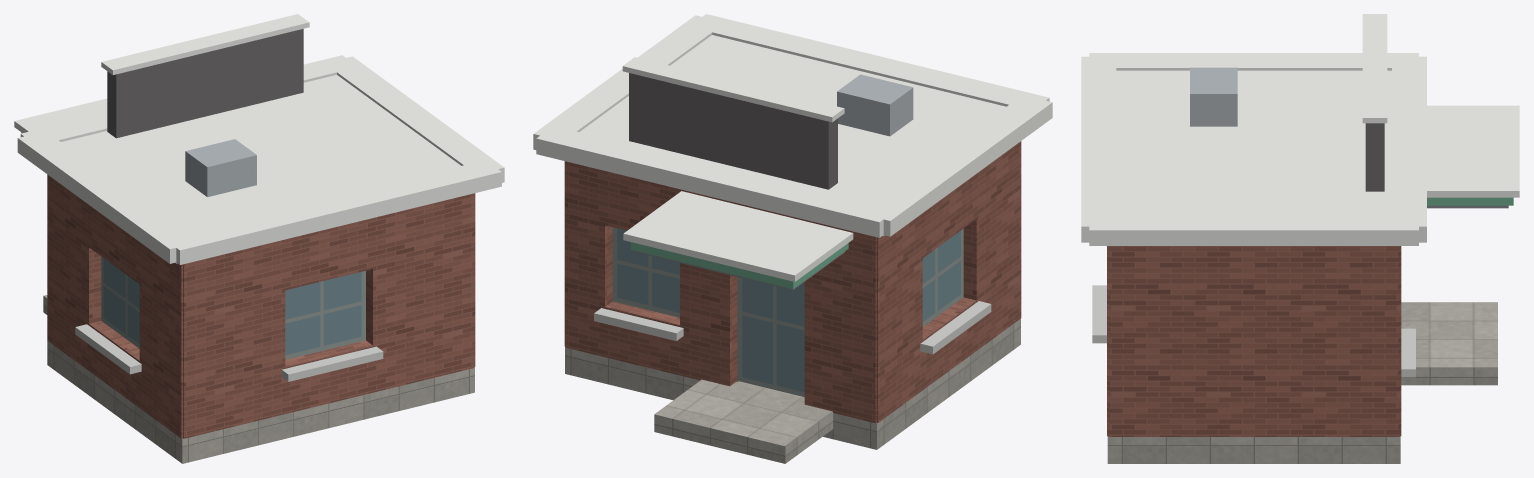
3 renders of one model, left to right at view 1: azimuth 30°, elevation 25°; view 2: azimuth 150°, elevation 25°; view 3: azimuth 270°, elevation 25°, orthographic. The views are drawn at different scales.
Parts seen in each view (by area): view 1: guard__guardbrick, guard__cap, guard__darkframe, guard__stone, guard__glass, guard__metalroof, guard__sill, guard__frame; view 2: guard__cap, guard__guardbrick, guard__darkframe, guard__glass, guard__threshold-front, guard__stone, guard__frame, guard__metalroof, guard__sill, guard__greencanopy; view 3: guard__cap, guard__guardbrick, guard__stone, guard__threshold-front, guard__metalroof, guard__sill, guard__darkframe, guard__greencanopy.
Boxes of the visible parts, x1,y1,x2,y2 form: guard__guardbrick: [47, 174, 475, 438]; guard__cap: [14, 14, 504, 264]; guard__darkframe: [107, 29, 303, 138]; guard__stone: [47, 341, 474, 463]; guard__glass: [103, 258, 361, 355]; guard__metalroof: [185, 139, 256, 196]; guard__sill: [75, 324, 383, 381]; guard__frame: [101, 256, 365, 359]; guard__cap: [533, 14, 1052, 281]; guard__guardbrick: [564, 141, 1021, 422]; guard__darkframe: [629, 73, 837, 189]; guard__glass: [617, 228, 960, 392]; guard__threshold-front: [654, 379, 833, 463]; guard__stone: [565, 318, 1020, 449]; guard__frame: [612, 227, 963, 396]; guard__metalroof: [837, 74, 913, 136]; guard__sill: [594, 301, 991, 354]; guard__greencanopy: [631, 242, 848, 288]; guard__cap: [1081, 14, 1519, 245]; guard__guardbrick: [1107, 246, 1401, 436]; guard__stone: [1107, 436, 1400, 463]; guard__threshold-front: [1401, 302, 1497, 385]; guard__metalroof: [1190, 67, 1237, 126]; guard__sill: [1092, 285, 1415, 377]; guard__darkframe: [1365, 123, 1384, 191]; guard__greencanopy: [1427, 197, 1513, 205].
Bounding box in the file's own units: 5.72 × 4.83 × 5.98.
11 materials, 2 textured.
